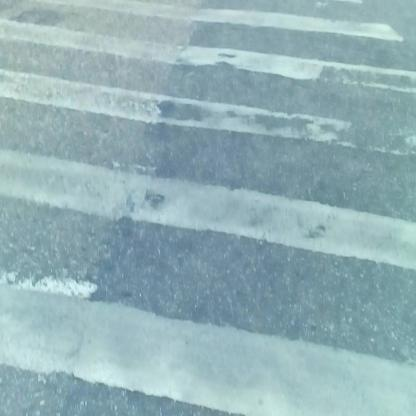crosswalk: (3, 9, 415, 407)
